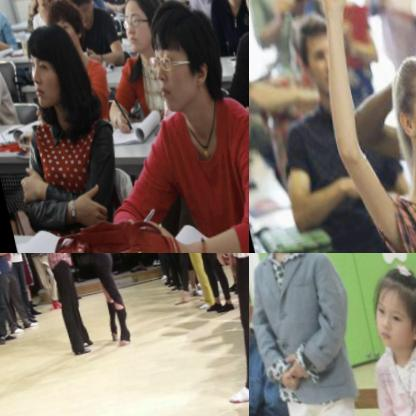head: (134, 0, 230, 118), (14, 19, 92, 118), (376, 37, 416, 179), (359, 253, 416, 350), (289, 11, 349, 101), (113, 0, 163, 56), (41, 0, 87, 56), (60, 0, 97, 31), (29, 0, 54, 10)
